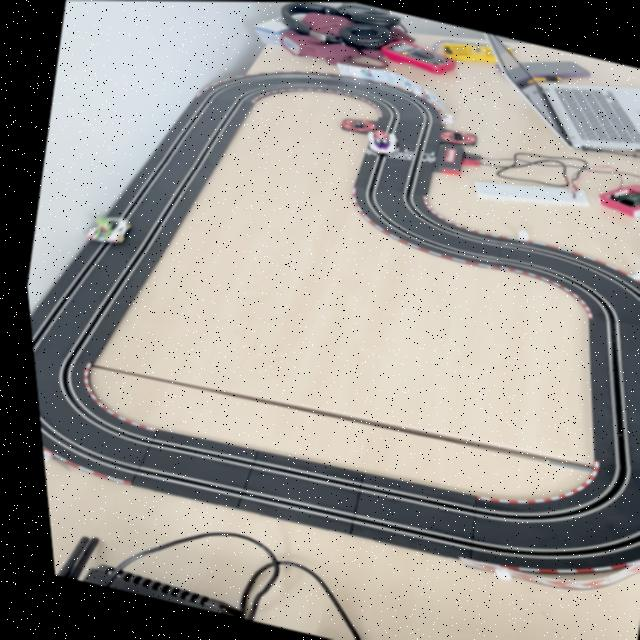mario: (359, 126, 401, 159)
yoshi: (76, 208, 132, 251)
